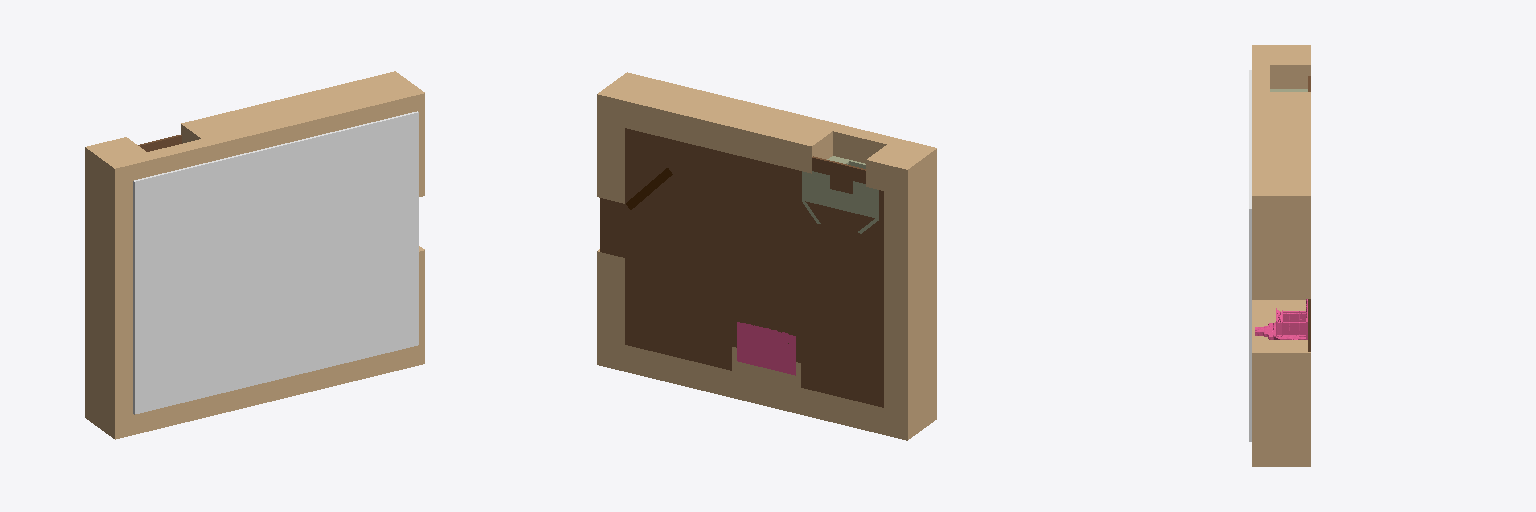
File: tinker.obj
The picture shows the model from 3 angles: view 1: azimuth 30°, elevation 25°; view 2: azimuth 150°, elevation 25°; view 3: azimuth 270°, elevation 25°; orthographic projection.
Parts seen in each view (by area): view 1: obj_0; view 2: obj_0; view 3: obj_0.
Part boxes in pixels (x1,y1,x2,y2): obj_0: (85, 71, 424, 439); obj_0: (597, 72, 936, 440); obj_0: (1249, 45, 1310, 466).
Size of the model in its own units: 120 by 100 by 21.